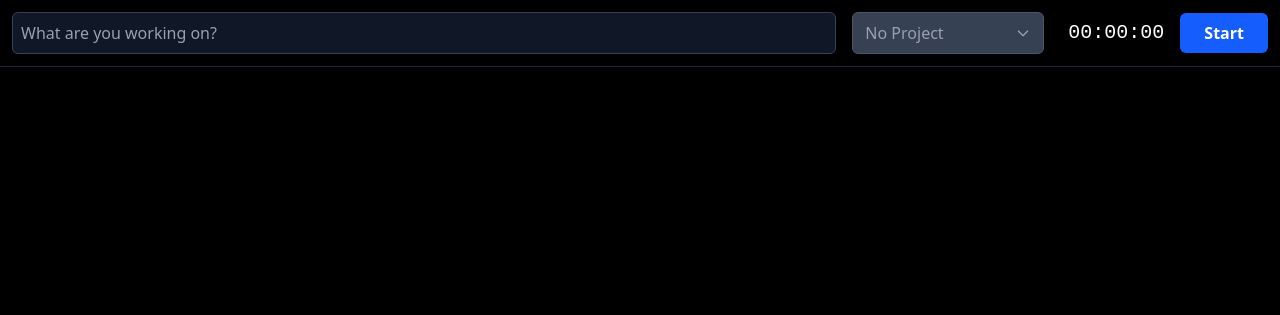
Test: LiveTimer.vue › Suggestions Logic › shows suggestions on focus
Focus the field with placeholder "What are you working on?" at (424, 33), box x1=12 y1=12 x2=836 y2=54
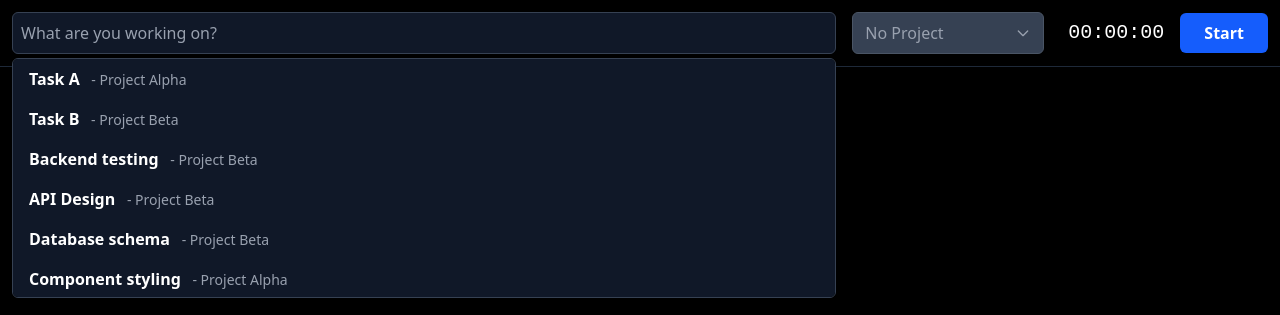
Check: the list with test id "suggestions-list" is shown, box x1=12 y1=58 x2=836 y2=298
